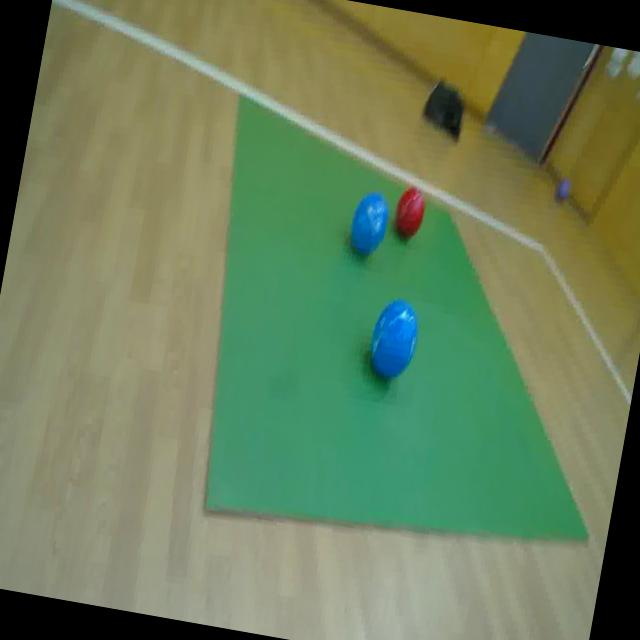blue_ball: (364, 288, 426, 390), (344, 191, 393, 262)
purple_ball: (550, 174, 574, 206)
red_ball: (390, 185, 430, 240)
